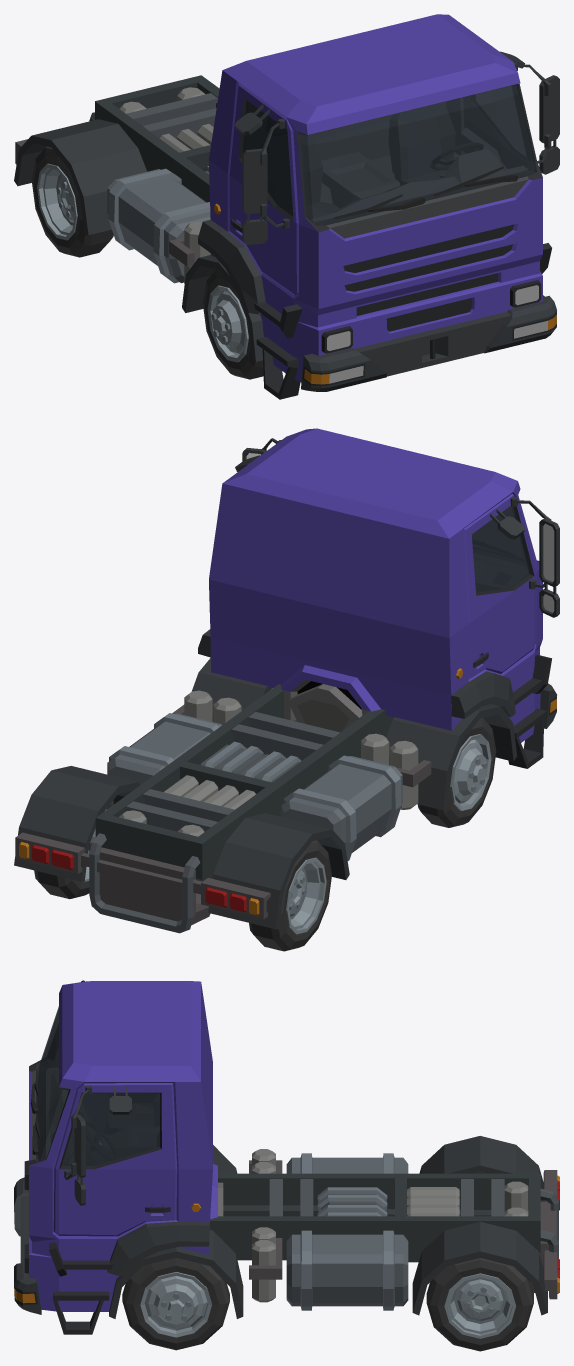
The model's file is redline_street_truck.glb.
The picture shows the model from 3 angles, top to bottom: view 1: azimuth 30°, elevation 25°; view 2: azimuth 150°, elevation 25°; view 3: azimuth 270°, elevation 25°; orthographic projection. The views are drawn at different scales.
Visible parts, largest first — view 1: Body, Glass, Door_R, Door_L, Wheel_RR, Wheel_FR; view 2: Body, Door_R, Wheel_RR, Wheel_FR, Wheel_RL; view 3: Body, Door_L, Wheel_RL, Wheel_FL, Glass, Door_R.
Part boxes in pixels (box(x1,y1,x2,y2)): Body: box(14, 14, 556, 399); Glass: box(300, 84, 535, 225); Door_R: box(229, 83, 298, 295); Door_L: box(460, 51, 559, 174); Wheel_RR: box(31, 146, 113, 257); Wheel_FR: box(202, 269, 263, 379); Body: box(14, 428, 556, 933); Door_R: box(463, 493, 559, 679); Wheel_RR: box(249, 840, 331, 951); Wheel_FR: box(417, 718, 496, 827); Wheel_RL: box(34, 800, 113, 899); Body: box(14, 981, 559, 1334); Door_L: box(53, 1083, 177, 1236); Wheel_RL: box(426, 1258, 533, 1351); Wheel_FL: box(122, 1258, 229, 1350); Glass: box(37, 1006, 68, 1160); Door_R: box(57, 980, 153, 1129).
Size of the model in its own units: 2.67 by 2.46 by 4.4.
3 materials, 2 textured.
